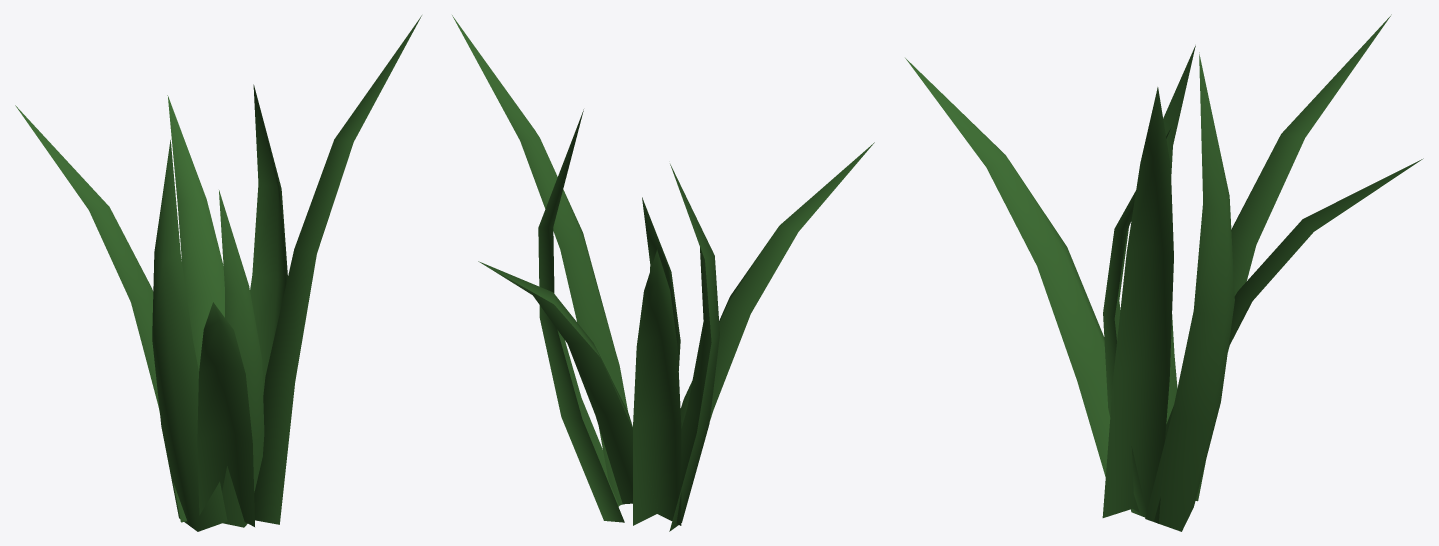
File: Plant_03.glb
3 views of the same model, side by side, from view 1: azimuth 30°, elevation 25°; view 2: azimuth 150°, elevation 25°; view 3: azimuth 270°, elevation 25° (orthographic). The views are drawn at different scales.
Parts seen in each view (by area): view 1: Plant3; view 2: Plant3; view 3: Plant3.
Boxes of the visible parts, <box> form: Plant3: <box>15,15,421,531</box>; Plant3: <box>452,15,874,531</box>; Plant3: <box>905,14,1423,531</box>.
Size of the model in its own units: 2.3 by 3.2 by 2.8.
